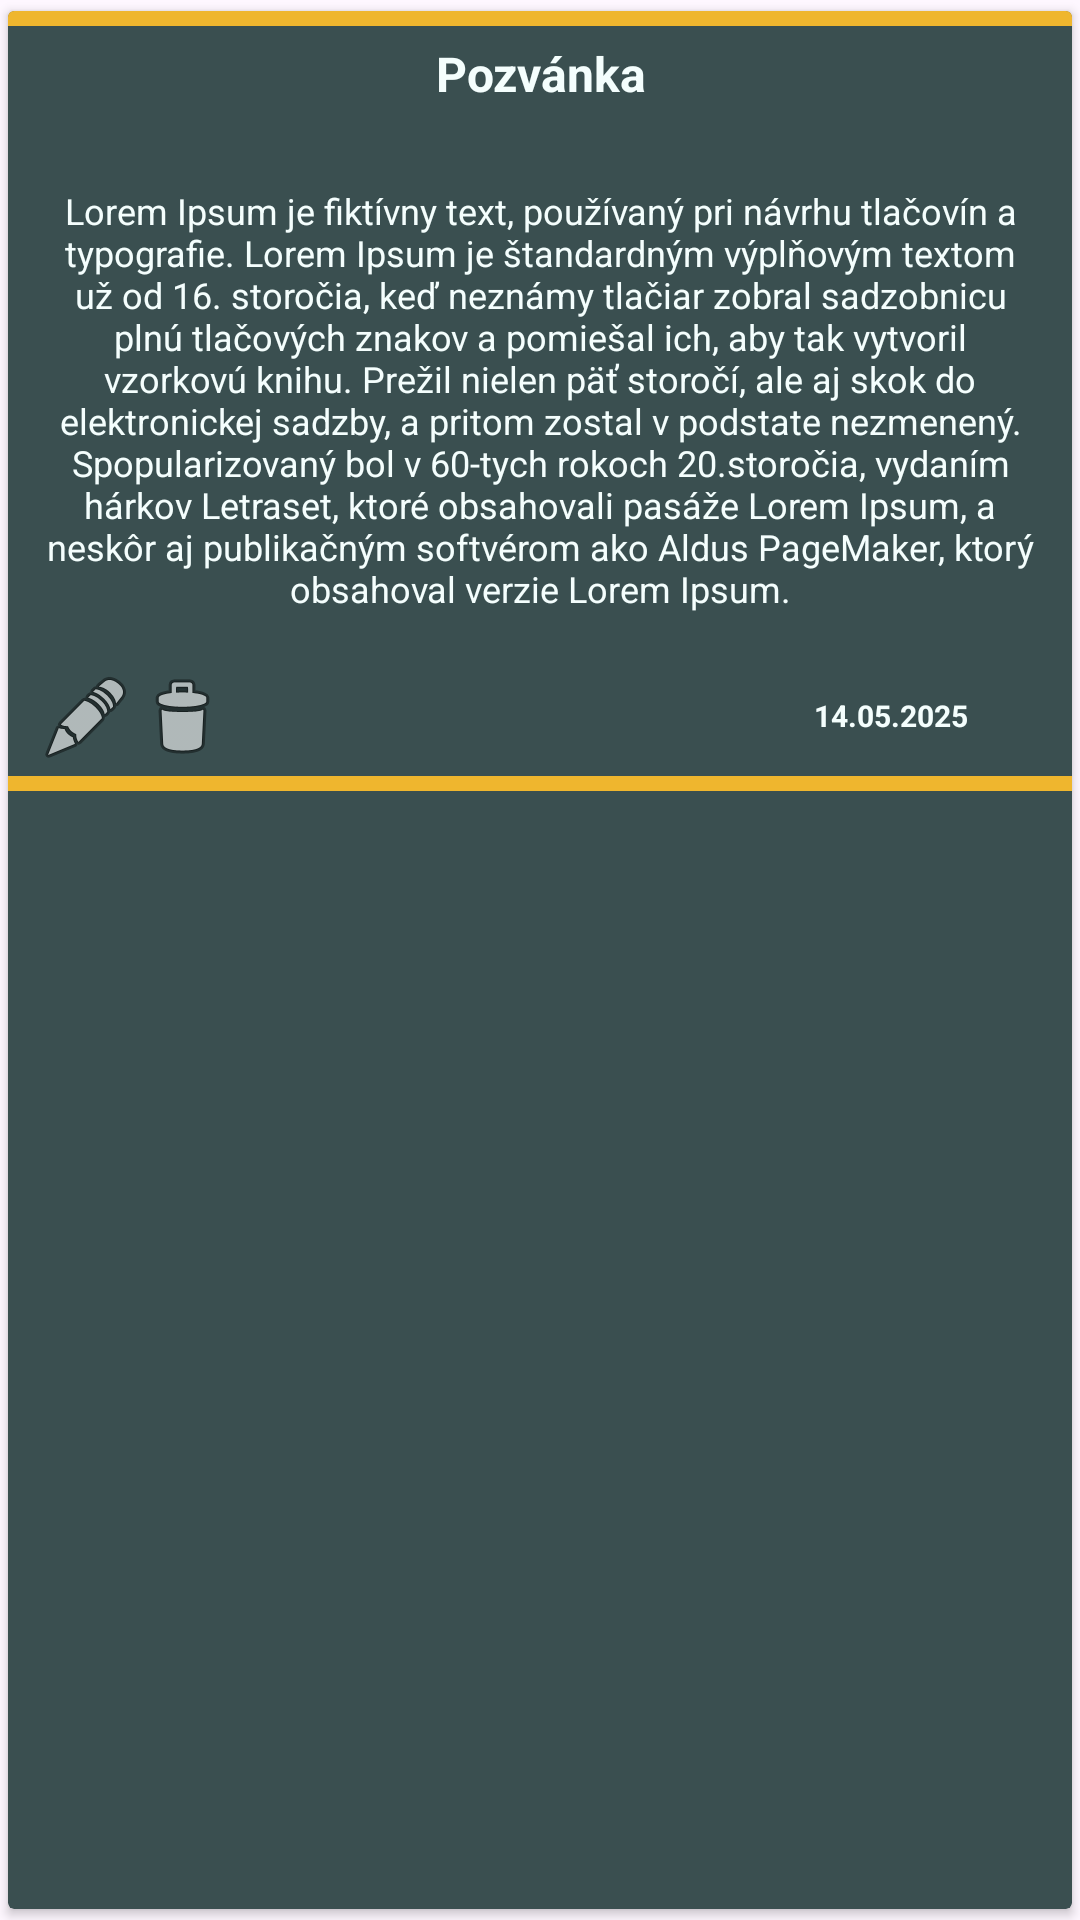

Icons on this 1080w x 1920h Android screen, each with its box as (x1, y1, x2, y2):
delete: (156, 680, 209, 753)
edit: (46, 677, 126, 757)
